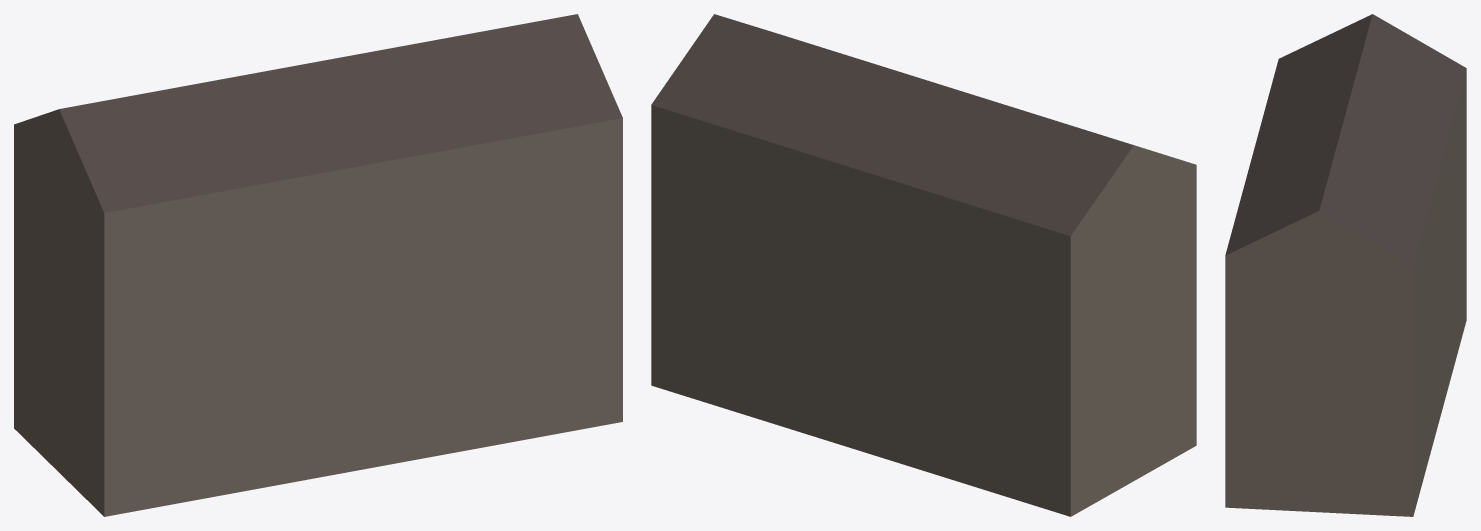
3 views of the same model, side by side, from view 1: azimuth 30°, elevation 25°; view 2: azimuth 150°, elevation 25°; view 3: azimuth 270°, elevation 25° (orthographic). The views are drawn at different scales.
Visible parts, largest first — view 1: HP-w1424106485; view 2: HP-w1424106485; view 3: HP-w1424106485.
Part boxes in pixels (left/top/right/bottom): HP-w1424106485: left=14, top=14, right=622, bottom=516; HP-w1424106485: left=651, top=14, right=1196, bottom=516; HP-w1424106485: left=1225, top=14, right=1466, bottom=516.
Bounding box in the file's own units: 10.53 × 7.18 × 5.21.
